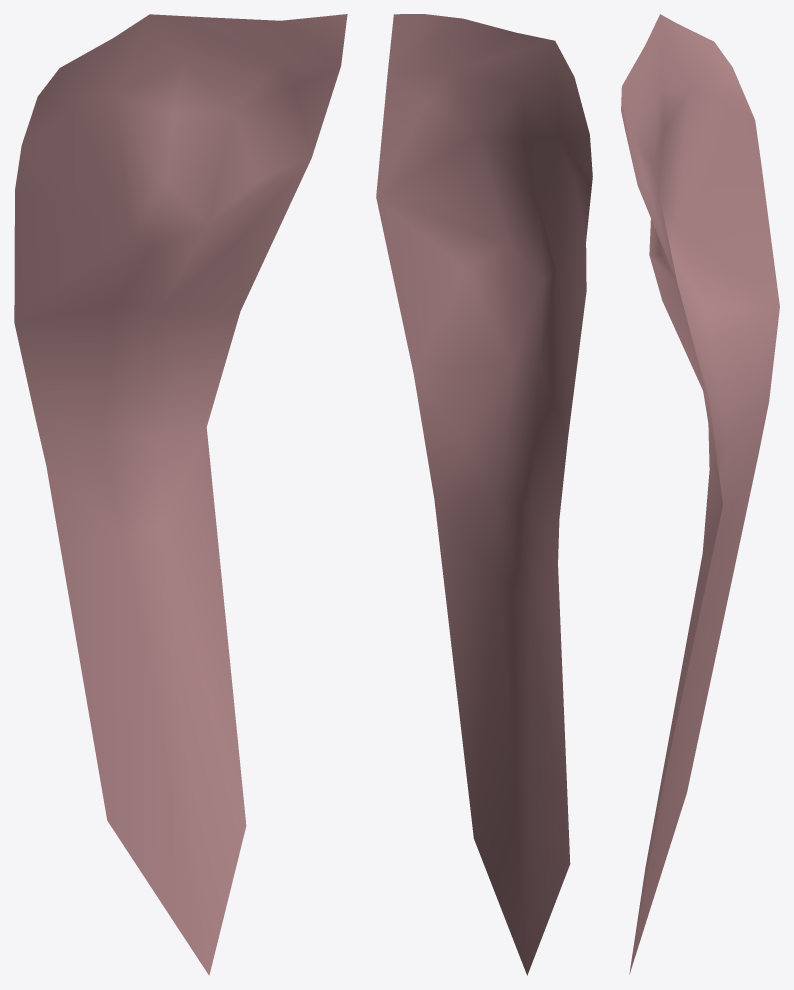
3 views of the same model, side by side, from view 1: azimuth 30°, elevation 25°; view 2: azimuth 150°, elevation 25°; view 3: azimuth 270°, elevation 25° (orthographic). The views are drawn at different scales.
Visible parts, largest first — view 1: ZA_65fe418f4262ce1a; view 2: ZA_65fe418f4262ce1a; view 3: ZA_65fe418f4262ce1a.
Part boxes in pixels (left/top/right/bottom): ZA_65fe418f4262ce1a: left=14, top=14, right=347, bottom=975; ZA_65fe418f4262ce1a: left=376, top=14, right=592, bottom=975; ZA_65fe418f4262ce1a: left=621, top=14, right=779, bottom=974.
Bounding box in the file's own units: 0.00884 × 0.0308 × 0.00472.
